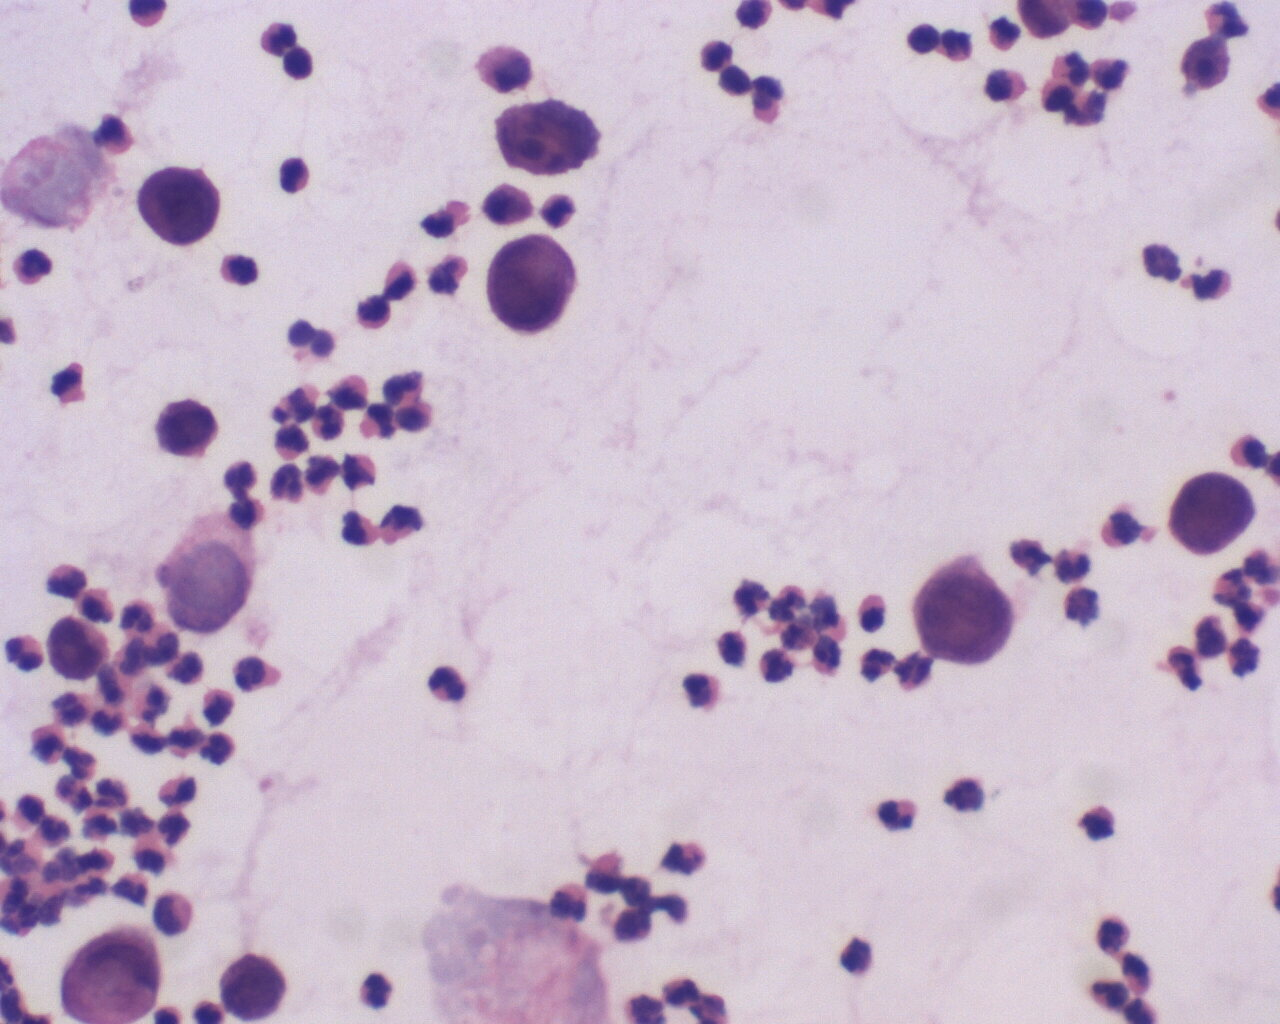ab: (904, 554, 1019, 670), (484, 235, 587, 340), (1166, 467, 1258, 564), (130, 165, 225, 255), (218, 946, 294, 1024), (45, 612, 119, 688), (156, 393, 224, 466)
lymph: (903, 13, 946, 60)
neutro: (875, 792, 924, 844), (355, 965, 403, 1013), (425, 664, 478, 706), (273, 155, 318, 196), (308, 402, 348, 446)
